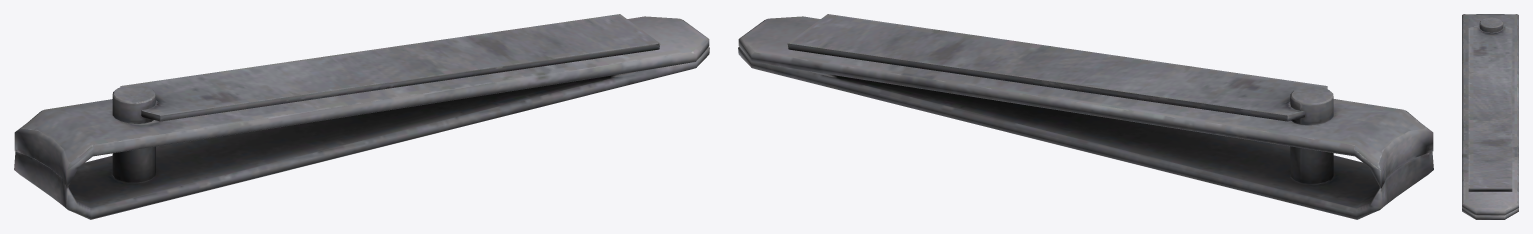
The model's file is nailcllipper.dae.
The picture shows the model from 3 angles, left to right: view 1: azimuth 30°, elevation 25°; view 2: azimuth 150°, elevation 25°; view 3: azimuth 270°, elevation 25°; orthographic projection. The views are drawn at different scales.
Parts seen in each view (by area): view 1: nailcllipper; view 2: nailcllipper; view 3: nailcllipper.
Boxes of the visible parts, x1=… form: nailcllipper: x1=14, y1=14, x2=709, y2=219; nailcllipper: x1=738, y1=14, x2=1433, y2=219; nailcllipper: x1=1462, y1=14, x2=1518, y2=219.
Bounding box in the file's own units: 7.86 × 1.16 × 1.08.
